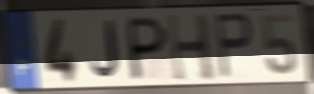4: (42, 16, 80, 86)
5: (259, 12, 297, 78)
H: (165, 11, 219, 84)
J: (89, 18, 122, 81)
P: (212, 11, 255, 81), (128, 14, 170, 83)
